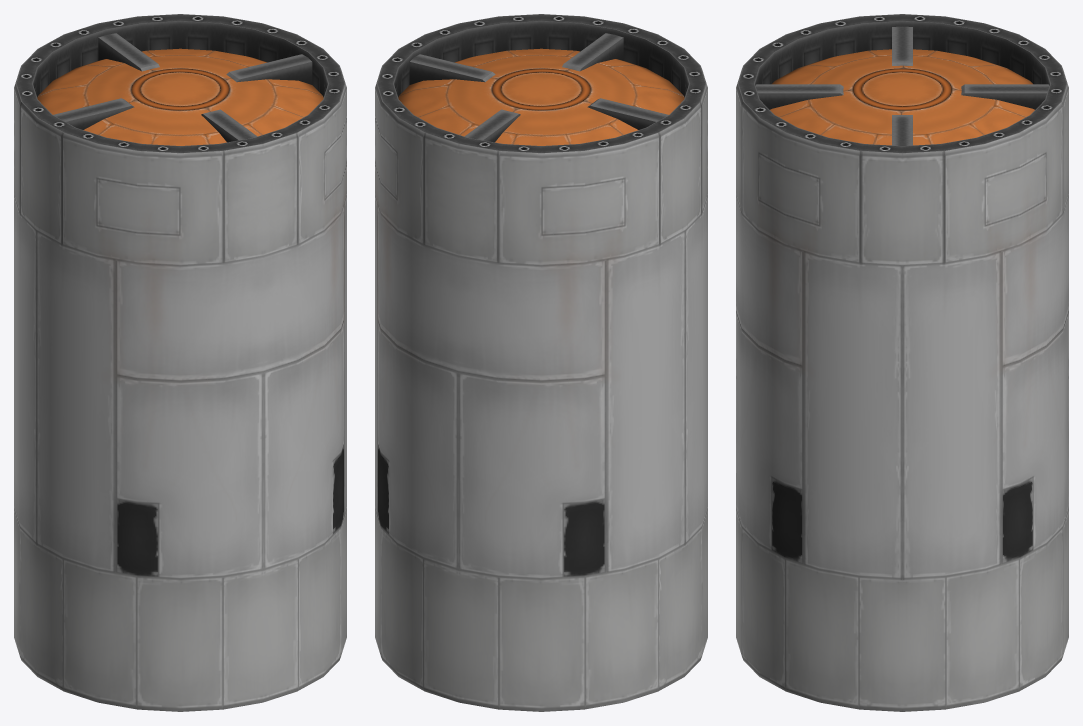
File: bluedog_thorLongtank.dae
3 renders of one model, left to right at view 1: azimuth 30°, elevation 25°; view 2: azimuth 150°, elevation 25°; view 3: azimuth 270°, elevation 25°, orthographic.
Parts seen in each view (by area): view 1: ThorMainTank3; view 2: ThorMainTank3; view 3: ThorMainTank3.
Part boxes in pixels (x1=…): ThorMainTank3: x1=14, y1=14, x2=346, y2=711; ThorMainTank3: x1=375, y1=14, x2=707, y2=711; ThorMainTank3: x1=736, y1=14, x2=1068, y2=711.
Bounding box in the file's own units: 1.5 × 2.78 × 1.5.
